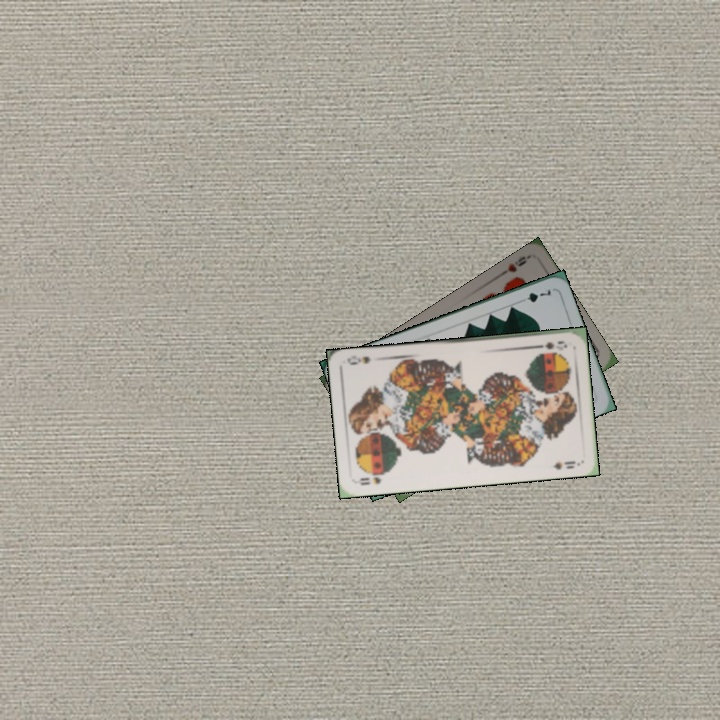G7: (515, 285, 553, 305)
H9: (495, 252, 532, 279)
SO: (353, 470, 388, 488), (530, 337, 570, 352)
